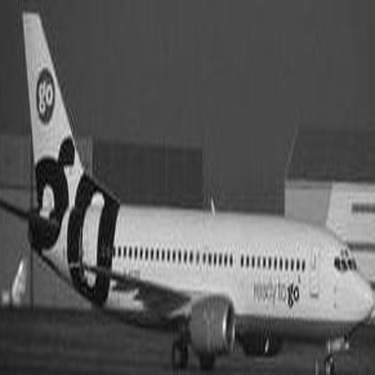airplane: (5, 5, 371, 372)
